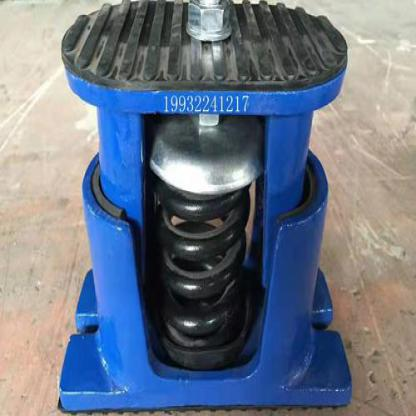FOD: (156, 182, 251, 358)
